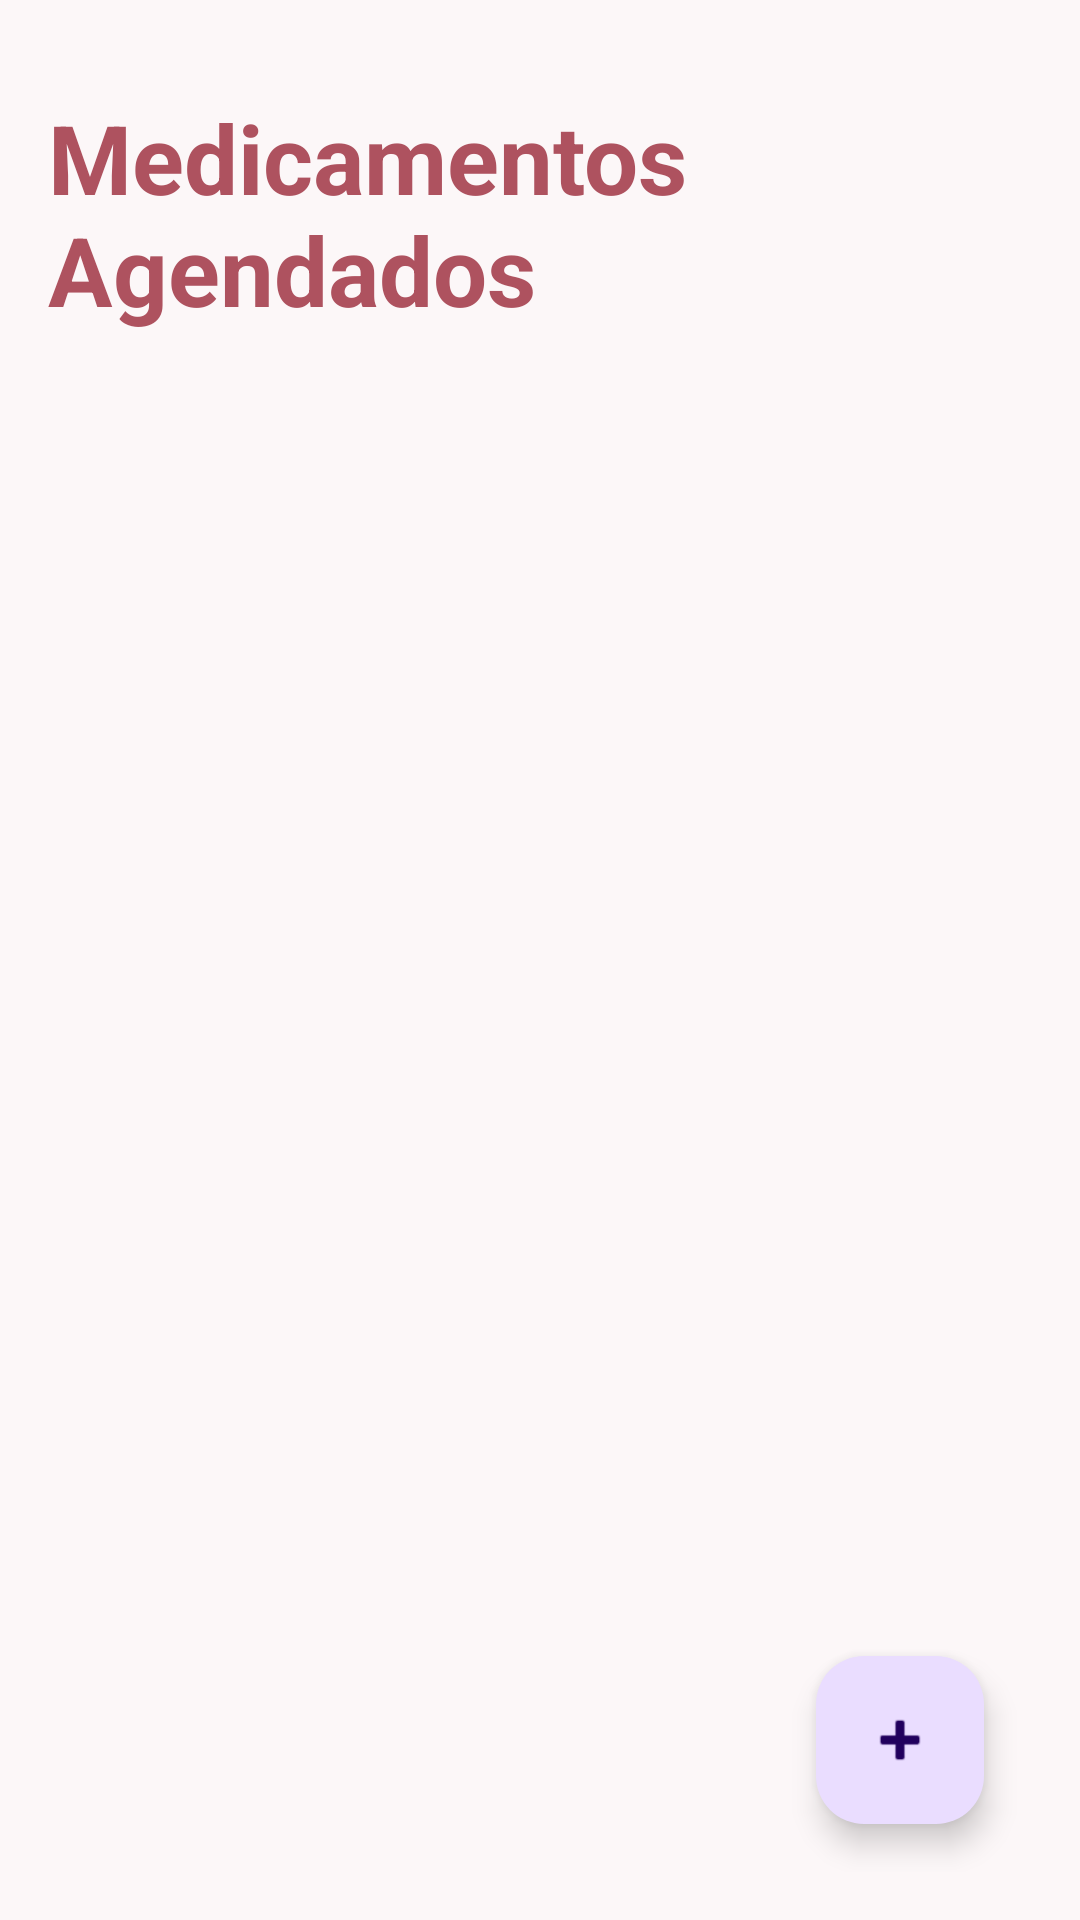

Named icons in this screenshot (1080w x 1920h) and their bounding boxes, (x1, y1, x2, y2):
Adicionar Agendamento: (816, 1656, 984, 1824)
